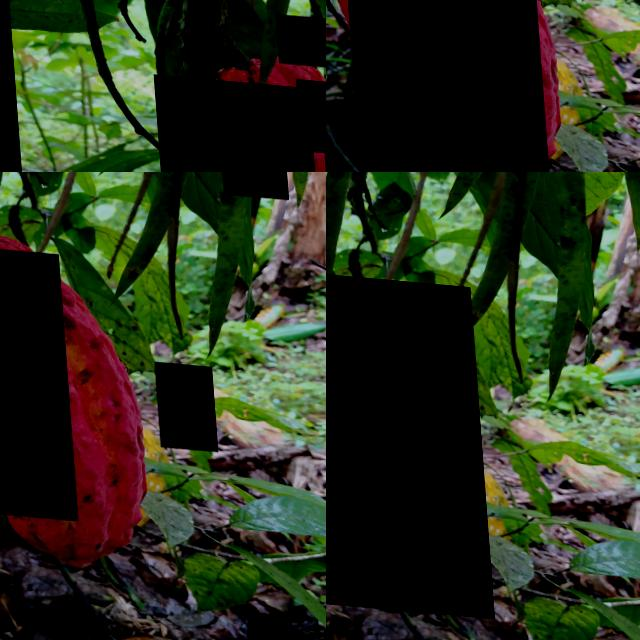Fitoftora: (150, 71, 313, 172)
Sana: (326, 263, 486, 611), (334, 0, 543, 172), (0, 236, 71, 514), (150, 354, 212, 443), (274, 9, 326, 61), (292, 73, 326, 151)
